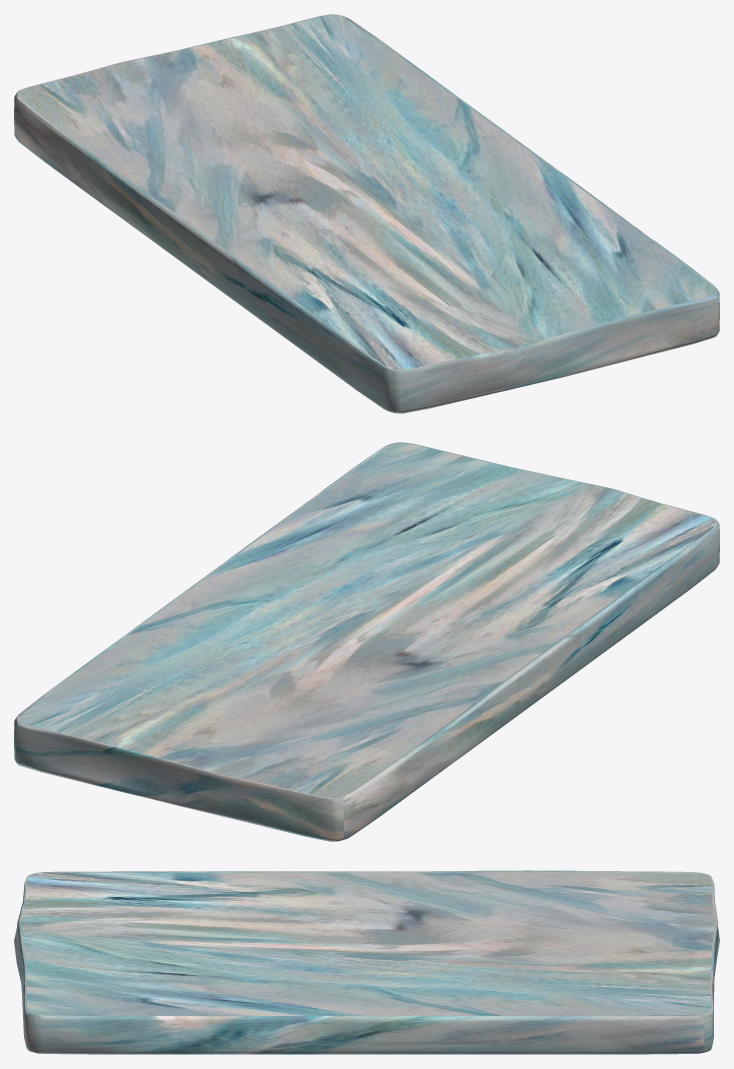
Rendered from madrats.fbx.
3 views of the same model, one above another, from view 1: azimuth 30°, elevation 25°; view 2: azimuth 150°, elevation 25°; view 3: azimuth 270°, elevation 25° (orthographic). The views are drawn at different scales.
Visible parts, largest first — view 1: Cube; view 2: Cube; view 3: Cube.
Part boxes in pixels (x1,y1,x2,y2): Cube: (14, 14, 719, 413); Cube: (14, 442, 719, 841); Cube: (14, 870, 719, 1054).
Size of the model in its own units: 1146 by 133 by 2231.
